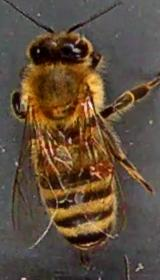varroa_mite: (81, 145, 120, 184)
